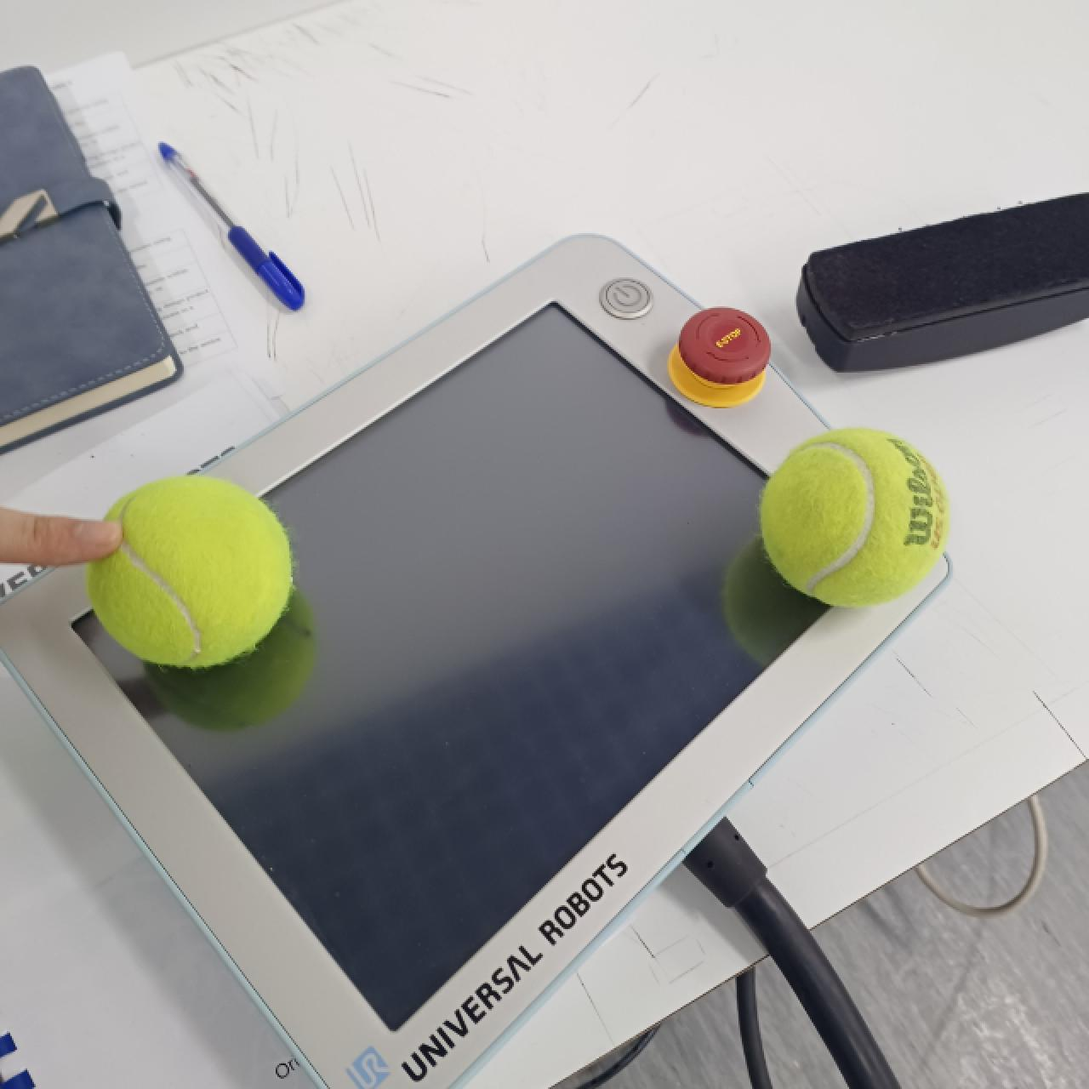tennis-ball: (91, 473, 296, 670), (754, 426, 951, 608)
